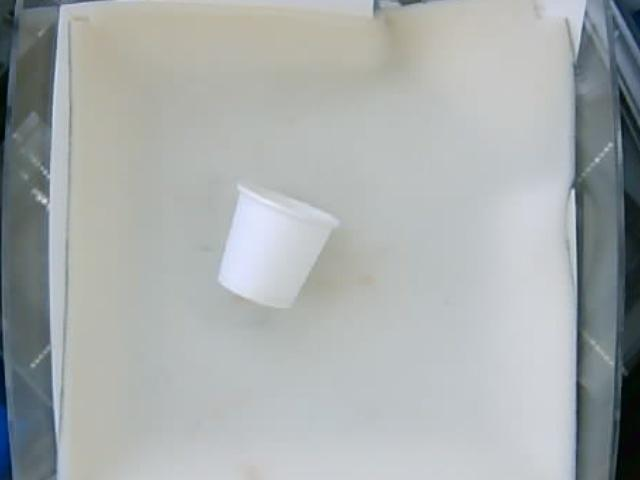Cup: (217, 183, 337, 308)
